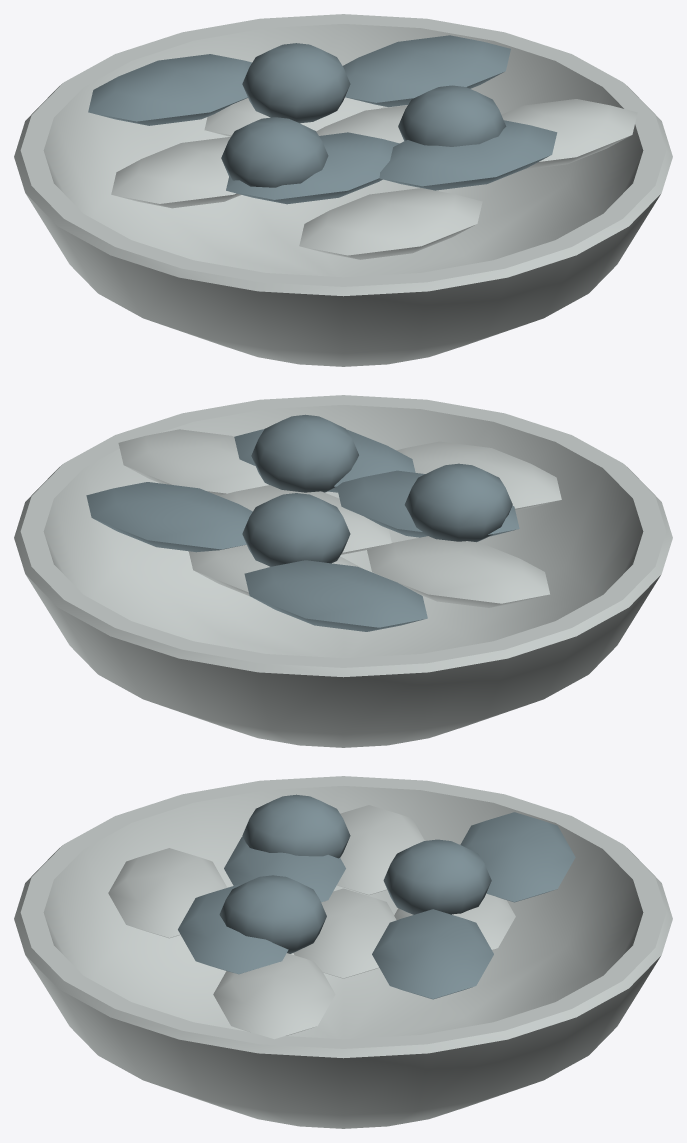
File: salad-bowl.glb
3 views of the same model, one above another, from view 1: azimuth 30°, elevation 25°; view 2: azimuth 150°, elevation 25°; view 3: azimuth 270°, elevation 25° (orthographic).
Visible parts, largest first — view 1: bowl, leaf.006, leaf.007, leaf.005, leaf.003, tomato_half.002, leaf.004, tomato_half, leaf.001, leaf.008, tomato_half.001, leaf.002 (+1 smaller); view 2: bowl, leaf.007, leaf.004, leaf.005, leaf.008, tomato_half, tomato_half.001, tomato_half.002, leaf.006, leaf.001, leaf, leaf.003 (+1 smaller); view 3: bowl, leaf.005, leaf.008, leaf.007, leaf.006, tomato_half.002, tomato_half.001, leaf, tomato_half, leaf.004, leaf.003, leaf.001 (+1 smaller).
Part boxes in pixels (box(x1,y1,x2,y2)): bowl: box(14, 14, 672, 366); leaf.006: box(299, 188, 482, 259); leaf.007: box(88, 54, 251, 125); leaf.005: box(343, 35, 510, 107); leaf.003: box(379, 120, 557, 190); tomato_half.002: box(242, 43, 350, 123); leaf.004: box(111, 136, 241, 208); tomato_half: box(221, 117, 328, 187); leaf.001: box(226, 132, 399, 204); leaf.008: box(501, 99, 637, 169); tomato_half.001: box(398, 85, 506, 146); leaf.002: box(204, 97, 382, 136); bowl: box(14, 395, 672, 747); leaf.007: box(244, 560, 427, 631); leaf.004: box(367, 536, 549, 607); leaf.005: box(86, 482, 252, 552); leaf.008: box(118, 429, 268, 495); tomato_half: box(404, 463, 512, 542); tomato_half.001: box(251, 414, 358, 492); tomato_half.002: box(242, 493, 350, 566); leaf.006: box(396, 441, 561, 510); leaf.001: box(337, 470, 519, 537); leaf: box(219, 485, 391, 554); leaf.003: box(234, 429, 415, 492); bowl: box(14, 776, 672, 1128); leaf.005: box(372, 909, 493, 999); leaf.008: box(213, 953, 335, 1039); leaf.007: box(460, 812, 575, 902); leaf.006: box(108, 848, 227, 938); tomato_half.002: box(383, 839, 491, 914); tomato_half.001: box(219, 875, 326, 953); leaf: box(293, 888, 396, 978); tomato_half: box(242, 794, 350, 858); leaf.004: box(336, 805, 424, 895); leaf.003: box(178, 884, 288, 974); leaf.001: box(224, 836, 345, 902).
Size of the model in its own units: 0.28 by 0.106 by 0.28.
